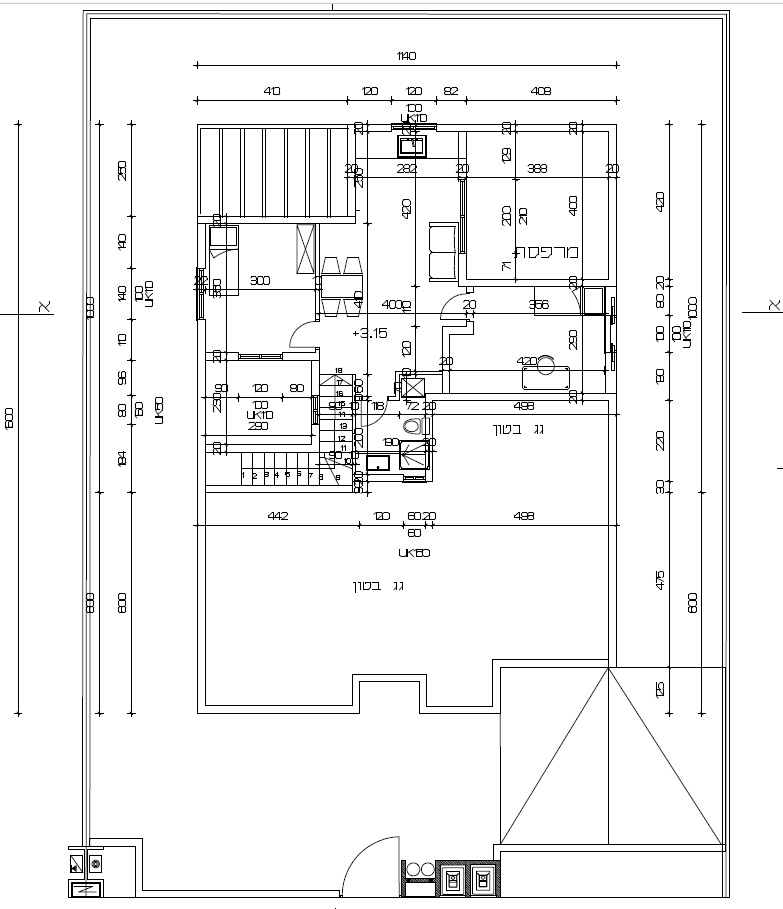door: (334, 834, 411, 903), (594, 292, 628, 386), (284, 315, 325, 355), (350, 388, 391, 428), (436, 290, 477, 330)
window: (448, 177, 473, 261), (189, 255, 212, 334), (231, 344, 289, 367), (385, 117, 446, 138), (302, 386, 325, 436)
